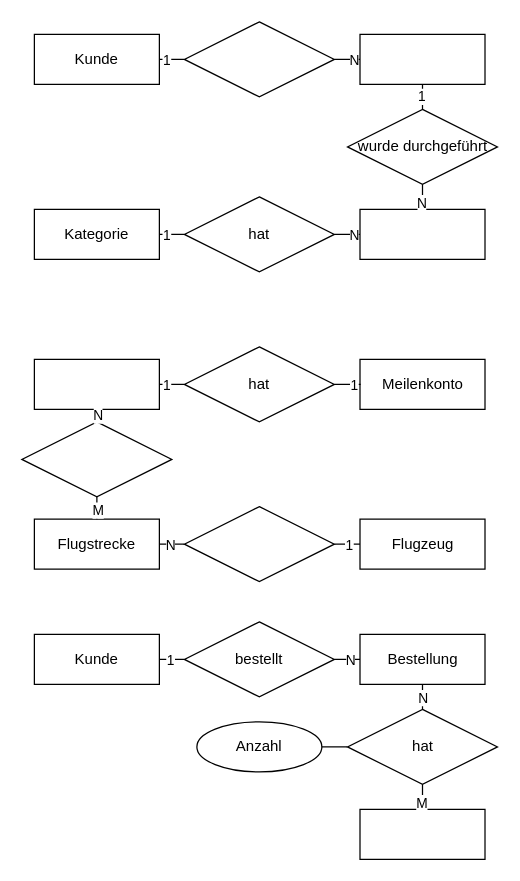
This 520x881 diagram has some shape labels left out. Here are the shapes that lost their labels. From the top down, the box of each, then its label:
(183, 21, 334, 97): besitzt
(359, 33, 485, 84): Auto
(359, 208, 485, 259): Reperatur
(33, 358, 159, 409): Passagier
(21, 421, 172, 497): Bucht
(183, 505, 334, 582): fliegt
(359, 808, 485, 859): Pizza
